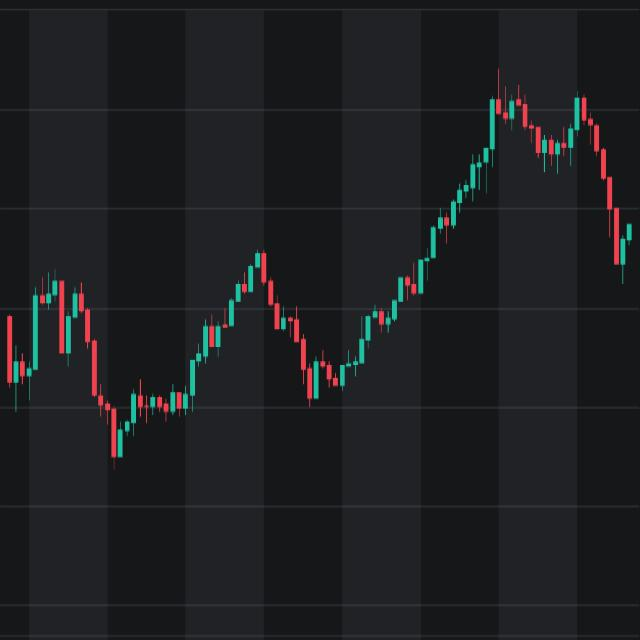Channel-up: (99, 13, 636, 560)
